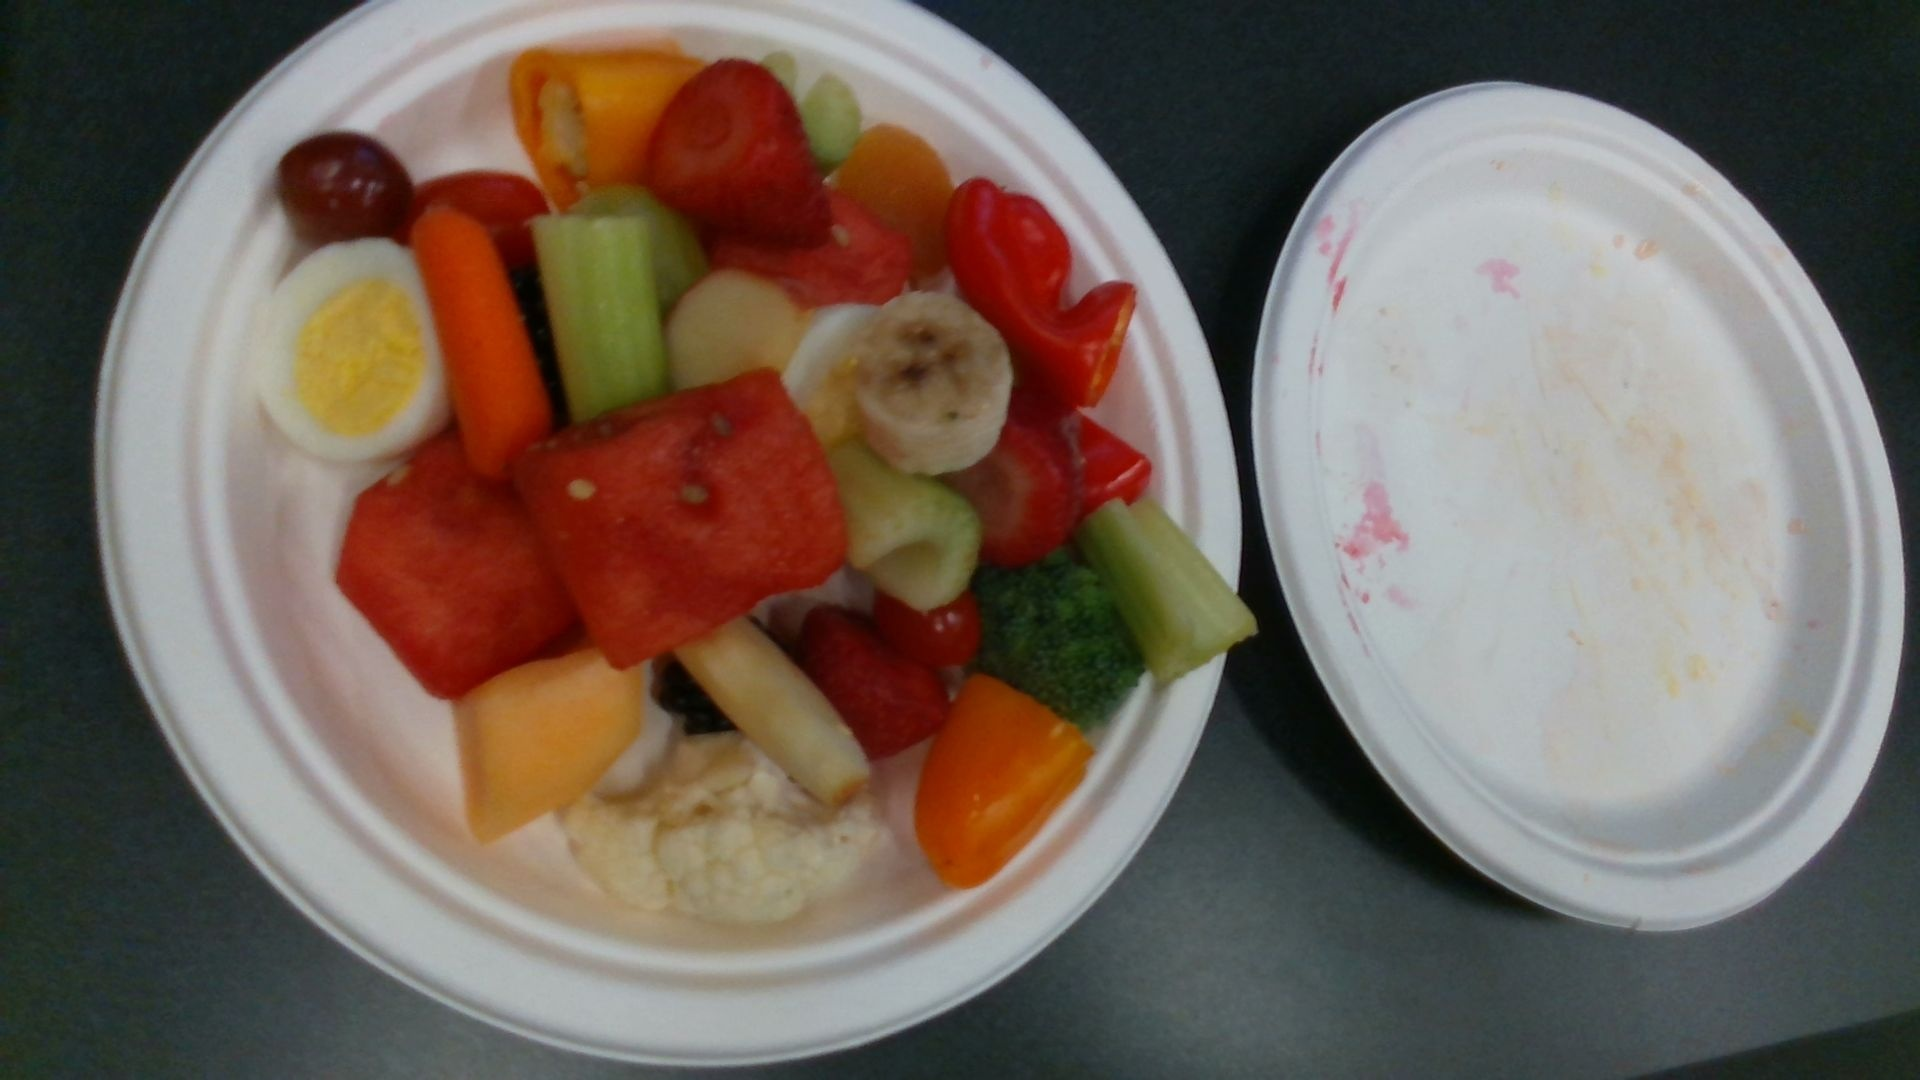apple: (676, 616, 872, 804), (665, 268, 814, 378)
apricot: (840, 127, 949, 262)
banana: (858, 293, 1011, 476)
bell_pepper: (949, 179, 1137, 404), (915, 675, 1092, 881), (509, 47, 705, 206)
broccoli: (978, 558, 1145, 727)
cantalope: (455, 651, 644, 841)
carrot: (410, 208, 545, 469)
cauliflower: (568, 745, 897, 915)
celery: (1084, 500, 1257, 684), (530, 216, 665, 419), (827, 450, 980, 611)
egg: (260, 237, 452, 456)
grape_purple: (277, 140, 415, 247)
melon: (520, 375, 845, 669), (339, 440, 575, 691)
strawberry: (644, 61, 829, 247), (952, 426, 1079, 563)
